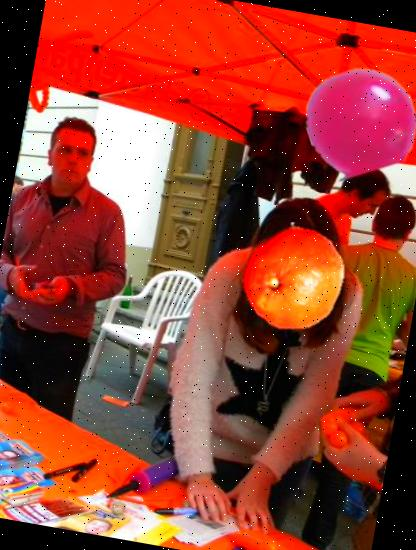Clementine: (230, 214, 357, 340)
Redcurrant: (297, 57, 416, 184)
